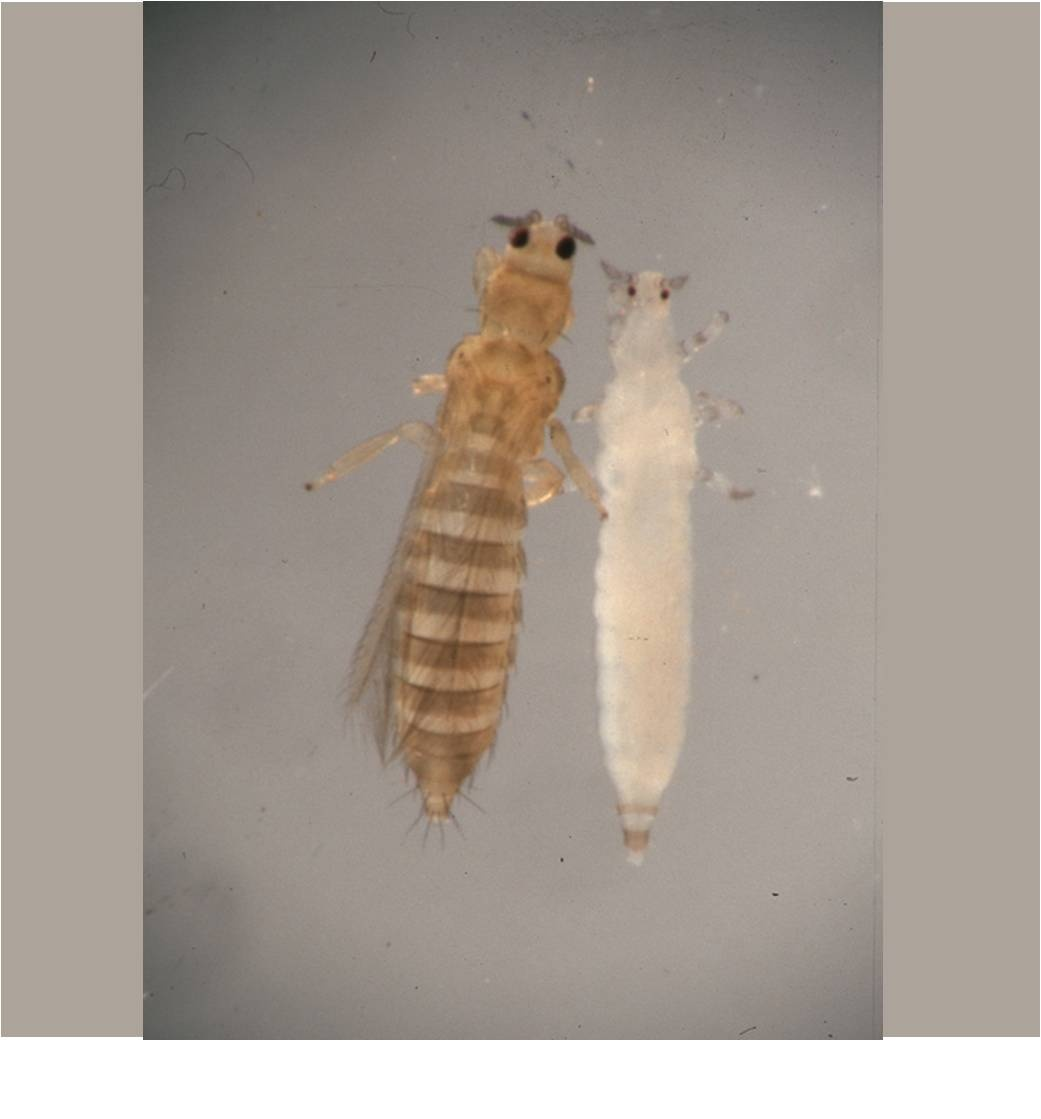Thrips: (339, 152, 550, 837), (586, 230, 693, 871)
